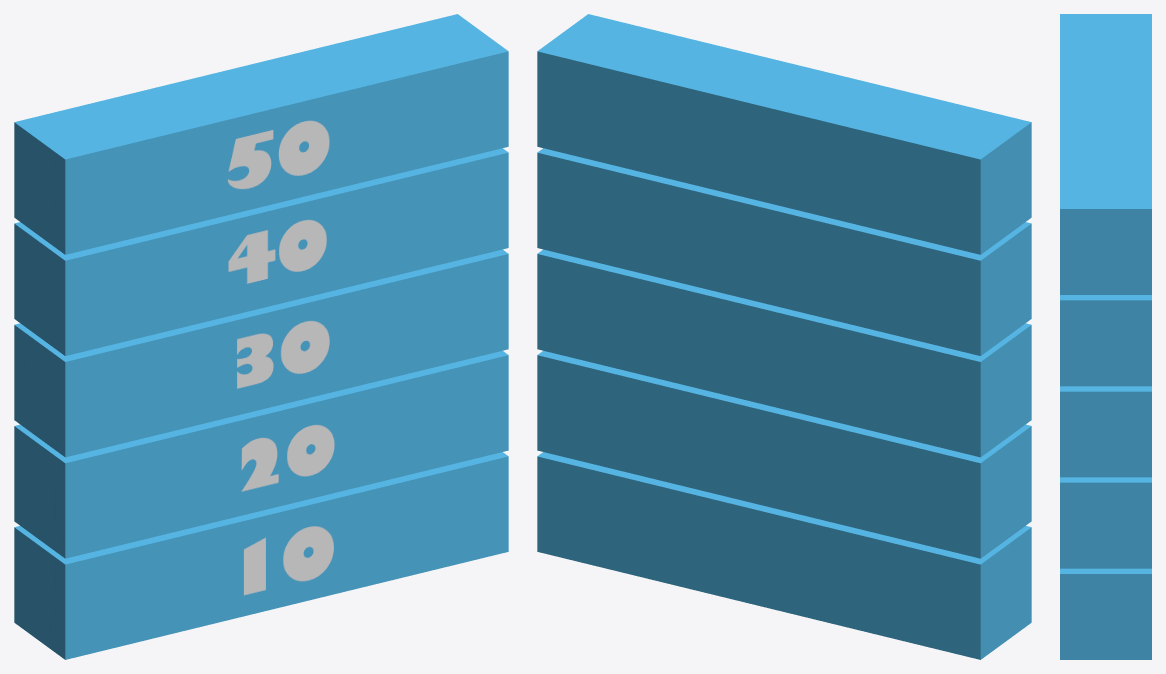
File: REQEMLER.fbx
The picture shows the model from 3 angles, left to right: view 1: azimuth 30°, elevation 25°; view 2: azimuth 150°, elevation 25°; view 3: azimuth 270°, elevation 25°; orthographic projection. The views are drawn at different scales.
Visible parts, largest first — view 1: Cube.028, Cube.030, Cube.032, Cube.029, Cube.031; view 2: Cube.028, Cube.030, Cube.032, Cube.029, Cube.031; view 3: Cube.028, Cube.032, Cube.031, Cube.030, Cube.029.
Boxes of the visible parts, x1,y1,x2,y2 form: Cube.028: (14, 14, 508, 254); Cube.030: (14, 249, 508, 457); Cube.032: (14, 452, 508, 659); Cube.029: (14, 148, 508, 355); Cube.031: (14, 351, 508, 558); Cube.028: (537, 14, 1031, 254); Cube.030: (537, 249, 1031, 457); Cube.032: (537, 452, 1031, 659); Cube.029: (537, 148, 1031, 355); Cube.031: (537, 351, 1031, 558); Cube.028: (1060, 14, 1151, 294); Cube.032: (1060, 568, 1151, 659); Cube.031: (1060, 477, 1151, 568); Cube.030: (1060, 386, 1151, 477); Cube.029: (1060, 295, 1151, 386).
Size of the model in its own units: 22.52 by 24.29 by 4.49.
